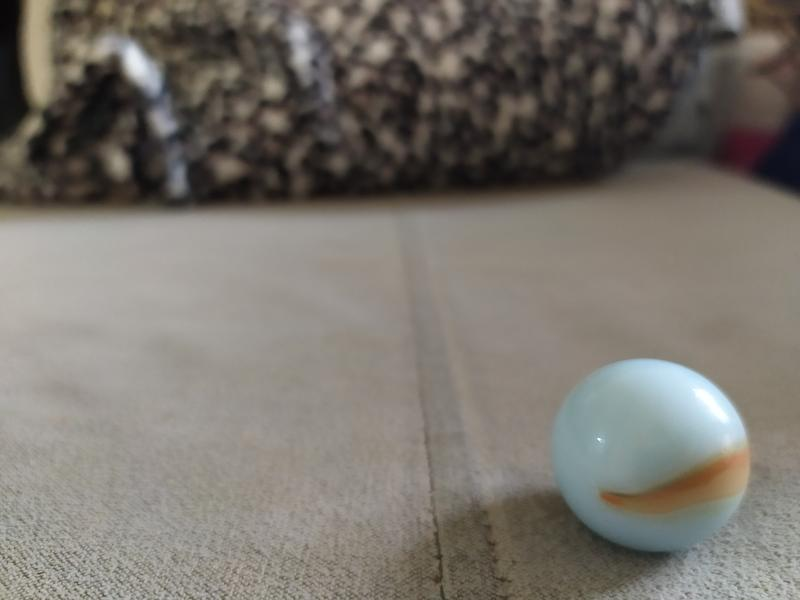Warning: (544, 351, 755, 557)
